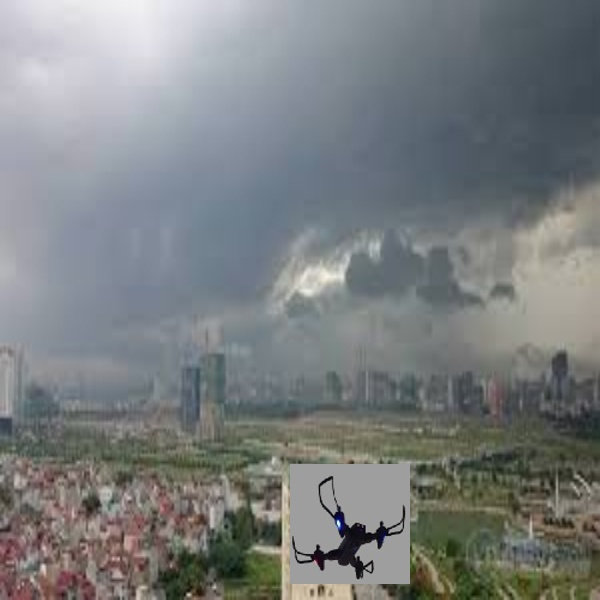drone: (286, 468, 414, 579)
